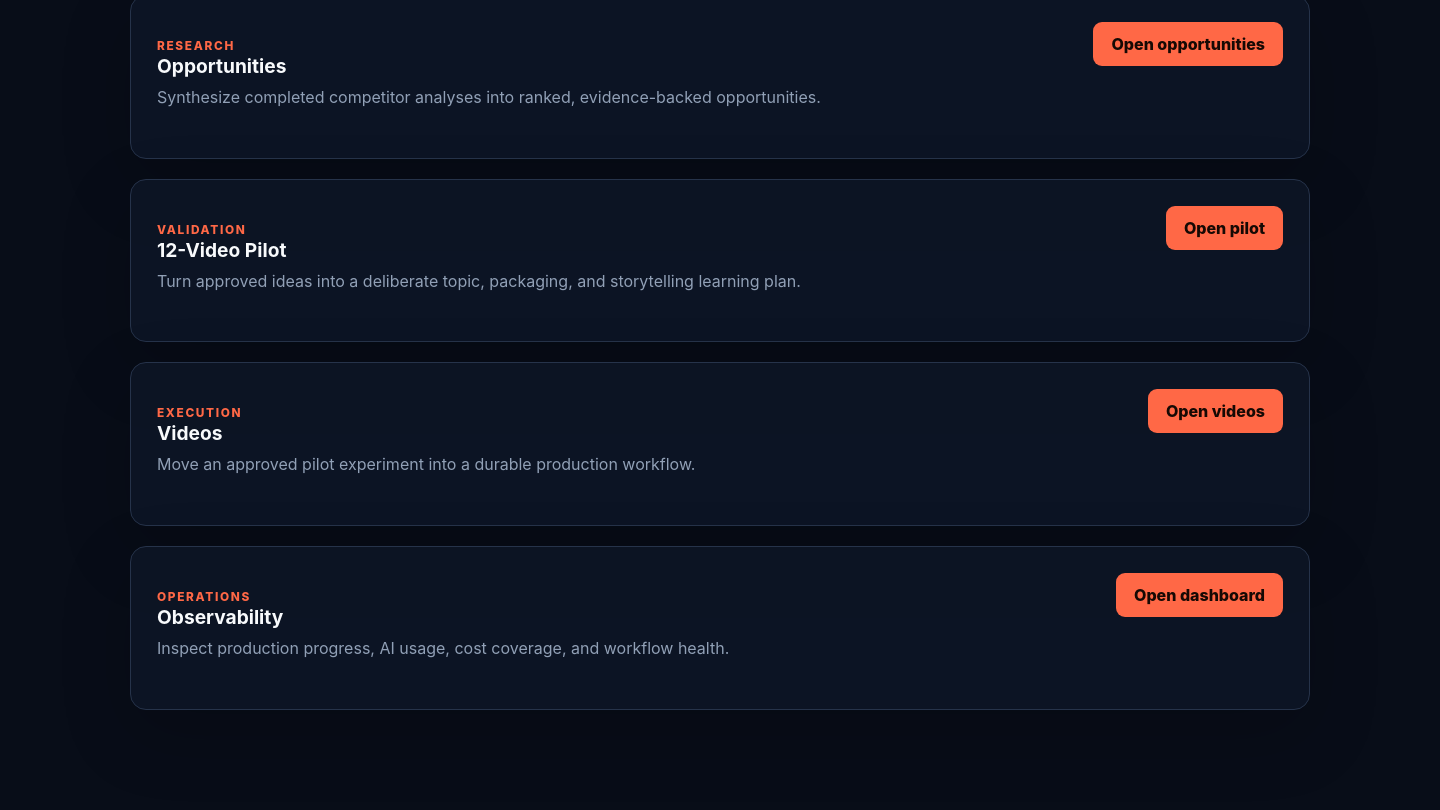
shows the Video Projects empty state
The image size is (1440, 810).
(page scrolled)
Step 1. Click the button "Open videos" → (1215,411), box top-left (1148, 389), bottom-right (1283, 433)
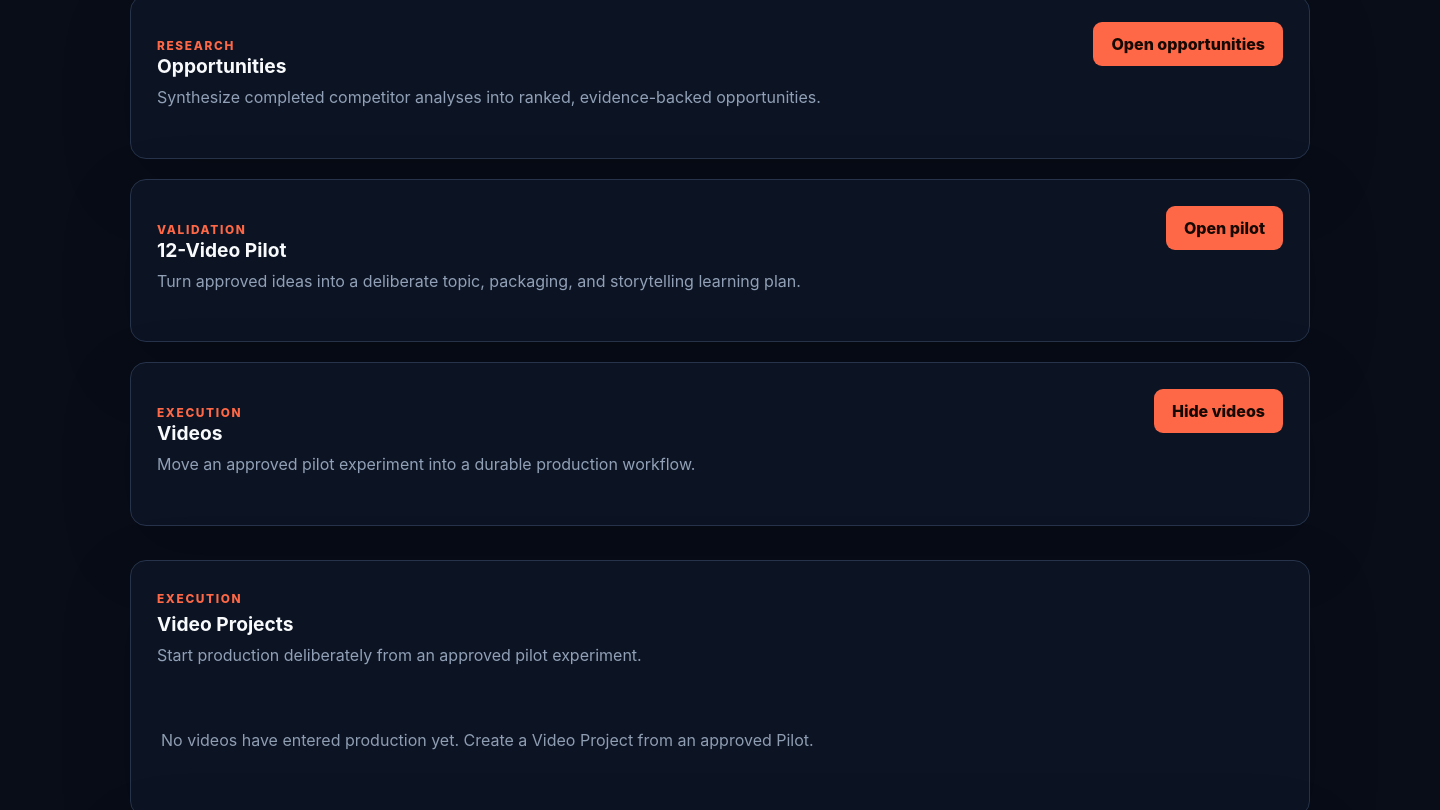
expect the text "No videos have entered production yet. Create a Video Project from an approved Pilot." is shown: met, box top-left (161, 730), bottom-right (814, 750)
